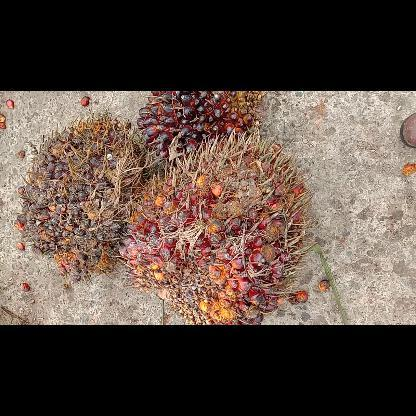Kurang masak: (16, 113, 140, 279), (135, 92, 265, 162)
TBS masak: (118, 132, 310, 324)
